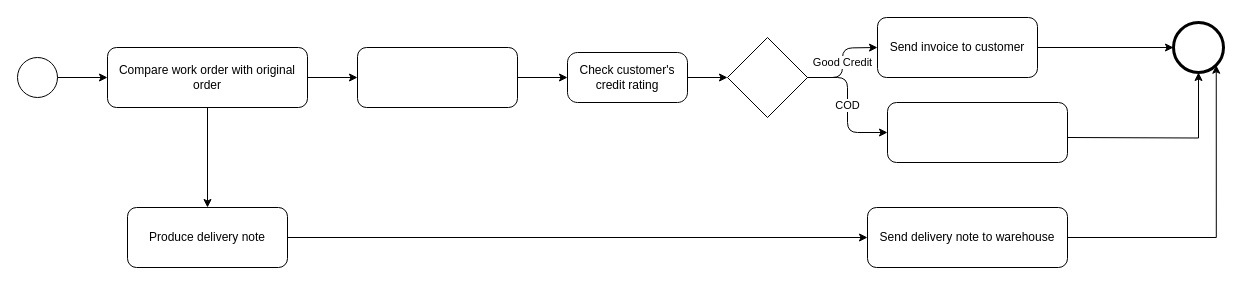
This 1242x285 diagram has some shape labels left out. Each missing label, with the centre of its shape:
Forward invoice to warehouse for COD: the point at 977,132
Produce invoice for customer: the point at 437,77
